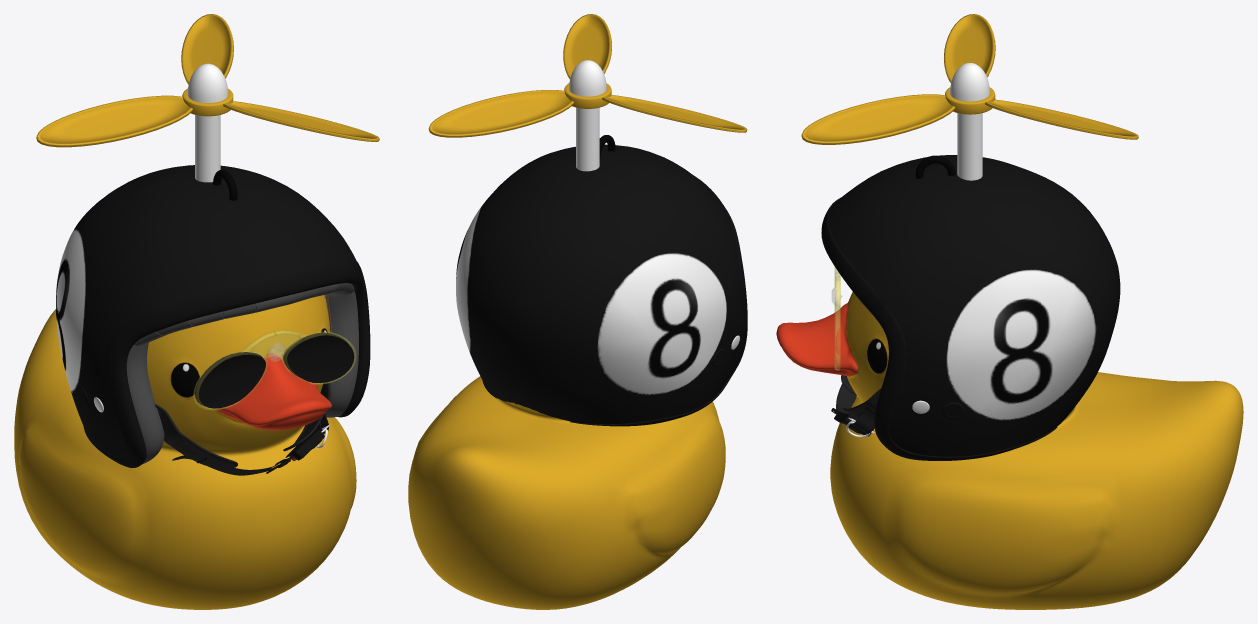
Rendered from dutch.glb.
3 views of the same model, side by side, from view 1: azimuth 30°, elevation 25°; view 2: azimuth 150°, elevation 25°; view 3: azimuth 270°, elevation 25° (orthographic). The views are drawn at different scales.
Visible parts, largest first — view 1: Sphere011; view 2: Sphere011; view 3: Sphere011.
Part boxes in pixels (left/top/right/bottom): Sphere011: left=14, top=14, right=379, bottom=609; Sphere011: left=408, top=14, right=747, bottom=609; Sphere011: left=776, top=14, right=1243, bottom=609.
Bounding box in the file's own units: 3.72 × 6.14 × 5.02.
Materials: 14 (2 with a texture image).
